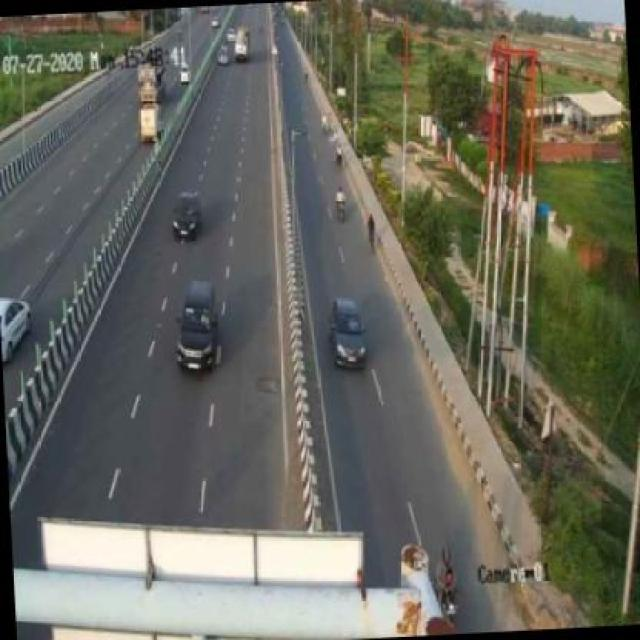car: (174, 275, 221, 374), (329, 295, 368, 368), (1, 291, 42, 358), (169, 194, 203, 243)
